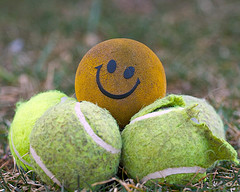tennis ball: (120, 95, 226, 190), (27, 97, 124, 192), (73, 37, 167, 124), (7, 90, 74, 170)
